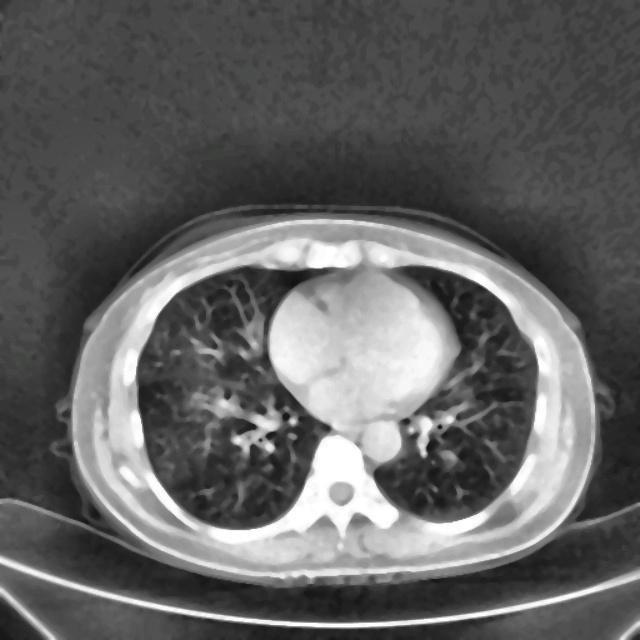covid: (61, 202, 602, 587)
